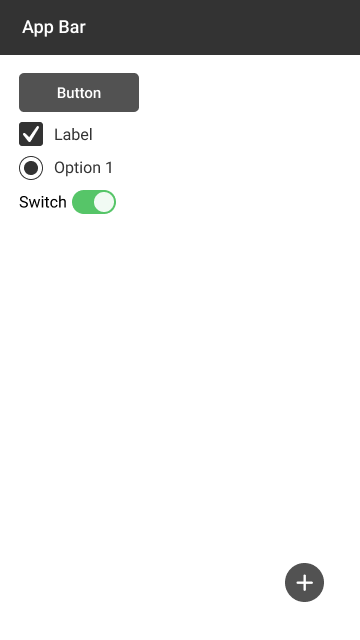button: (15, 71, 142, 115)
checkBox: (18, 119, 97, 148)
floatingButton: (282, 559, 330, 607)
radioButton: (17, 153, 116, 181)
switch: (18, 188, 118, 217)
toolbar: (1, 1, 360, 56)
